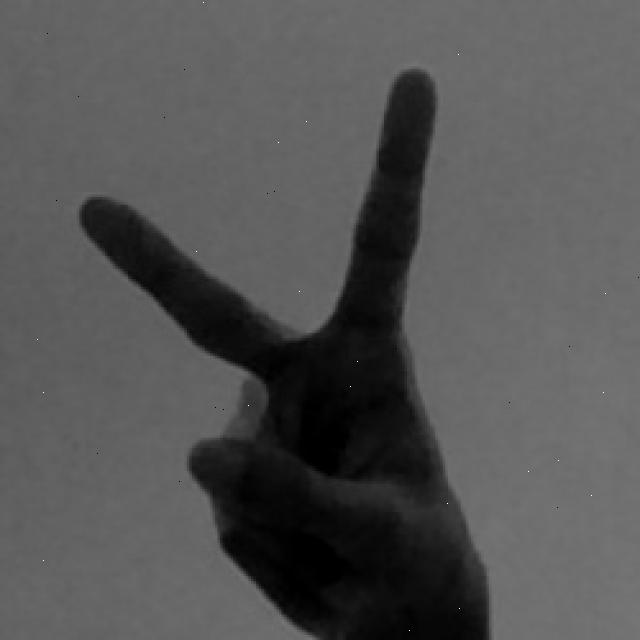K: (73, 61, 497, 640)
